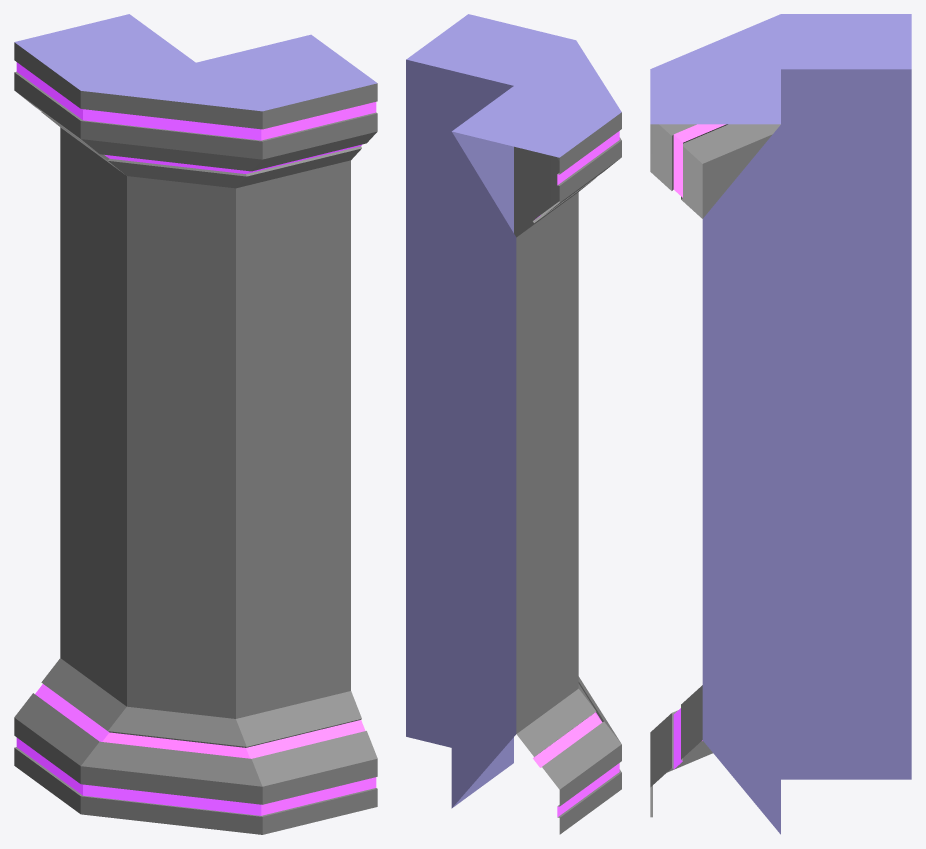
Rendered from WallCorner.FBX.
3 renders of one model, left to right at view 1: azimuth 30°, elevation 25°; view 2: azimuth 150°, elevation 25°; view 3: azimuth 270°, elevation 25°, orthographic. The views are drawn at different scales.
Visible parts, largest first — view 1: WallCorner; view 2: WallCorner; view 3: WallCorner.
Part boxes in pixels (left/top/right/bottom): WallCorner: left=14, top=14, right=377, bottom=834; WallCorner: left=406, top=14, right=621, bottom=834; WallCorner: left=650, top=14, right=911, bottom=834.
Size of the model in its own units: 100 by 100 by 300.
